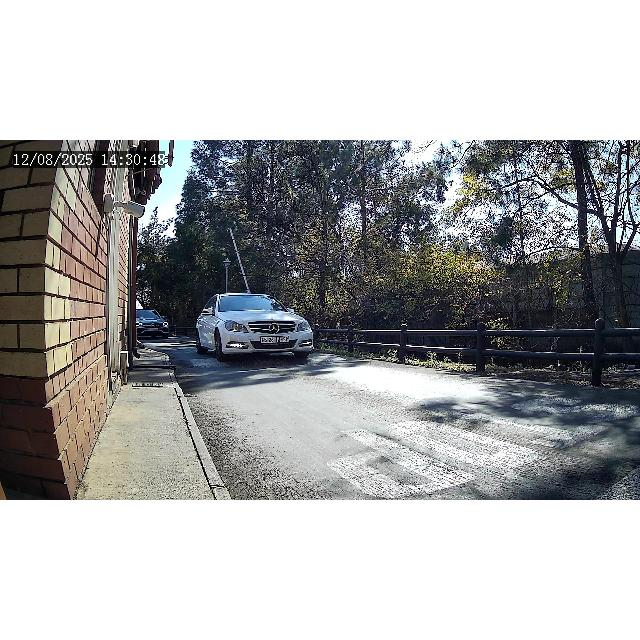car: (194, 293, 314, 359), (134, 306, 170, 340)
plate: (257, 335, 291, 343)
